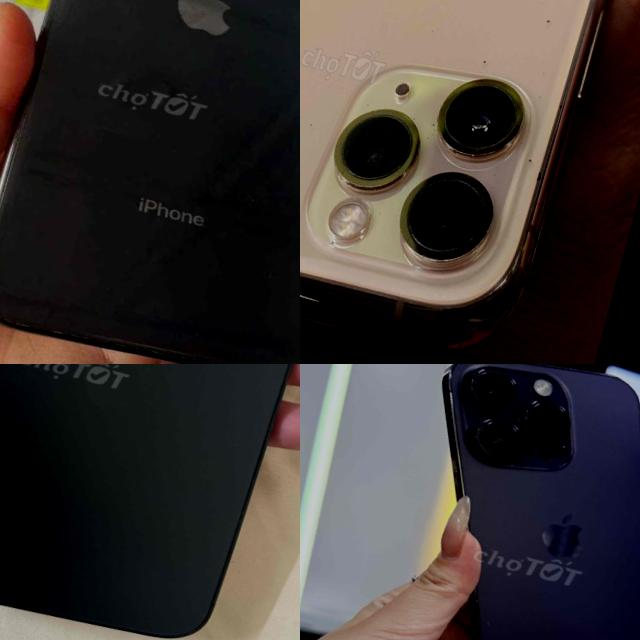gen_11: (300, 0, 640, 364)
gen_14: (0, 364, 300, 640), (362, 364, 640, 640)
gen_x_xs: (0, 0, 300, 364)
